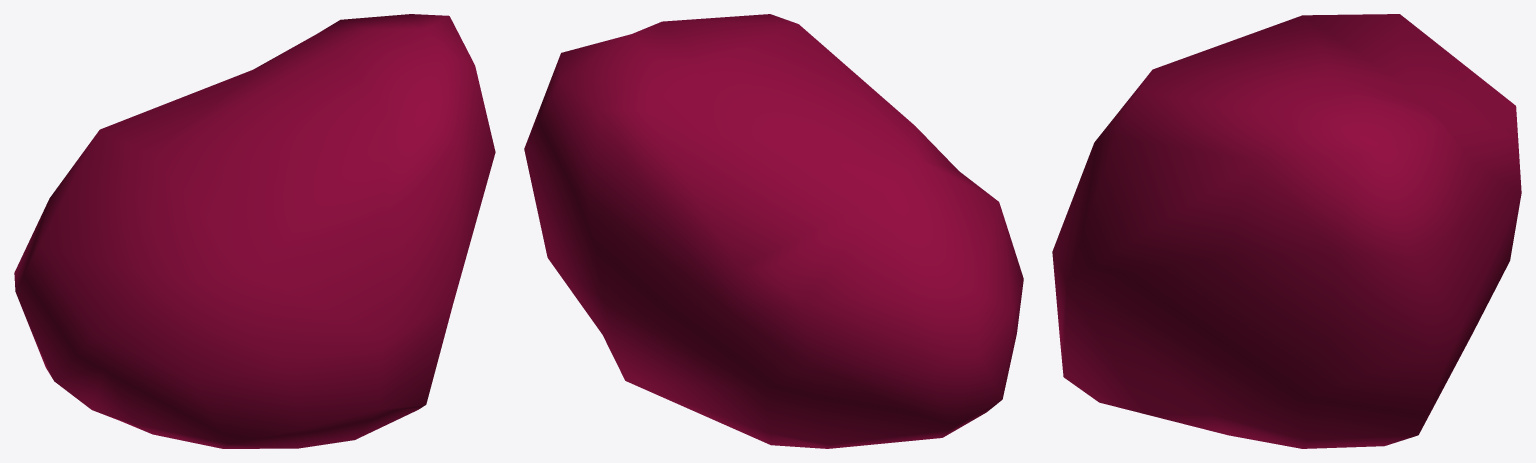
Rendered from stone_03.FBX.
3 renders of one model, left to right at view 1: azimuth 30°, elevation 25°; view 2: azimuth 150°, elevation 25°; view 3: azimuth 270°, elevation 25°, orthographic. The views are drawn at different scales.
Parts seen in each view (by area): view 1: stone_03; view 2: stone_03; view 3: stone_03.
Part boxes in pixels (x1,y1,x2,y2): stone_03: [14, 14, 495, 448]; stone_03: [524, 14, 1023, 448]; stone_03: [1052, 14, 1521, 448].
Bounding box in the file's own units: 50.37 × 34.29 × 39.25.
